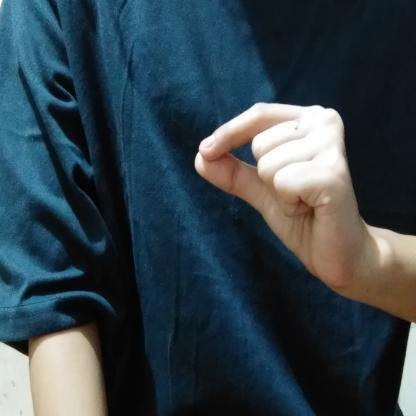nothing: (186, 95, 375, 305)
